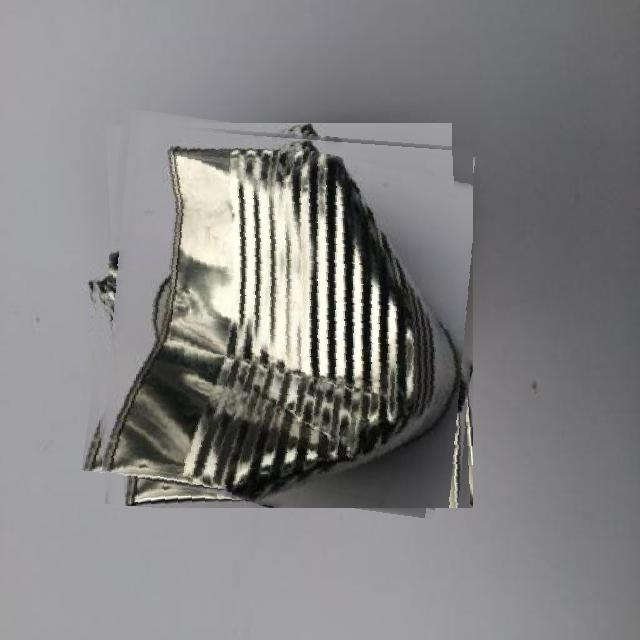recyclable: (84, 119, 473, 508)
